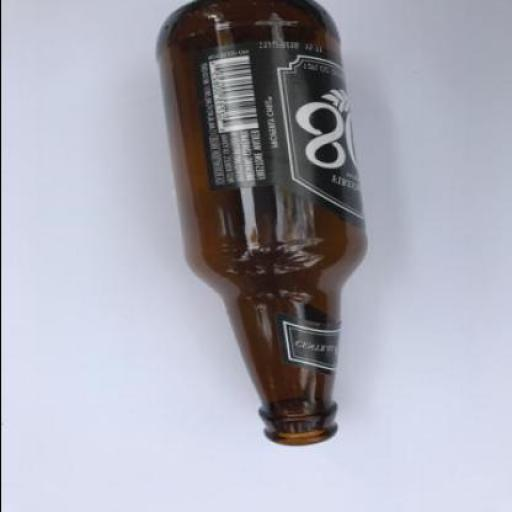glass: (155, 1, 371, 446)
